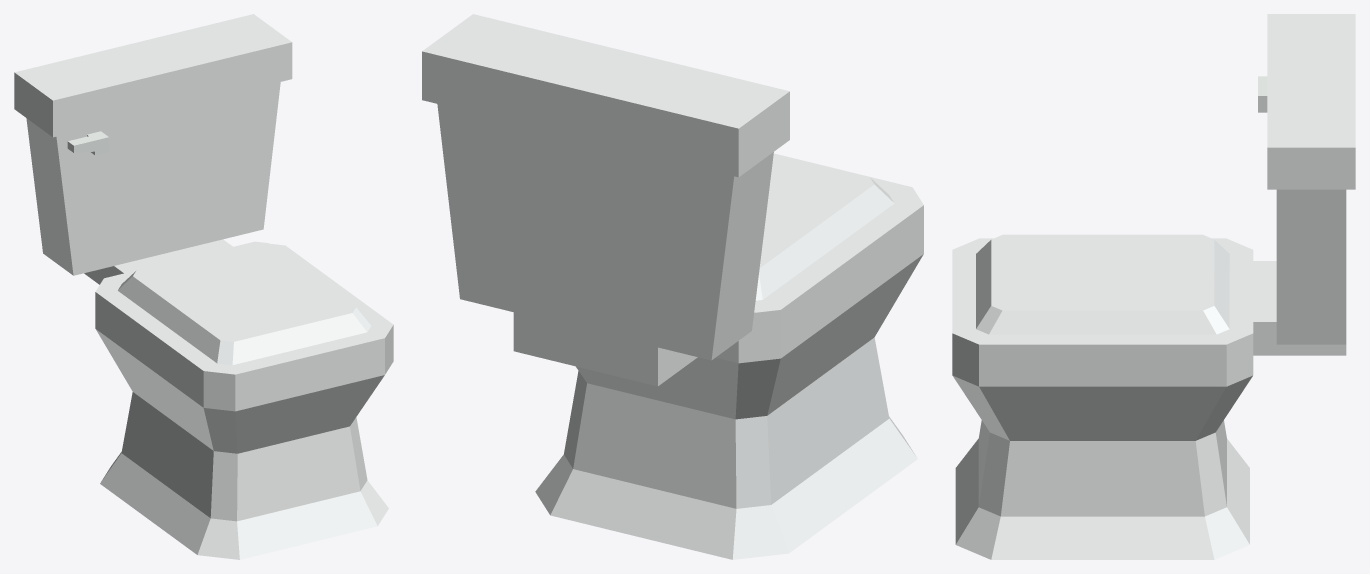
The model's file is toiletSquare.glb.
The picture shows the model from 3 angles, left to right: view 1: azimuth 30°, elevation 25°; view 2: azimuth 150°, elevation 25°; view 3: azimuth 270°, elevation 25°; orthographic projection. The views are drawn at different scales.
Parts seen in each view (by area): view 1: toiletSquare(Clone), Group; view 2: toiletSquare(Clone), Group; view 3: toiletSquare(Clone), Group.
Part boxes in pixels (x1=…): toiletSquare(Clone): x1=14, y1=14, x2=393, y2=559; Group: x1=118, y1=241, x2=370, y2=365; toiletSquare(Clone): x1=422, y1=14, x2=923, y2=559; Group: x1=755, y1=153, x2=894, y2=300; toiletSquare(Clone): x1=952, y1=14, x2=1355, y2=559; Group: x1=976, y1=234, x2=1229, y2=334.
Bounding box in the file's own units: 0.6163 × 0.9155 × 0.786.
Materials: 2 (2 with a texture image).
